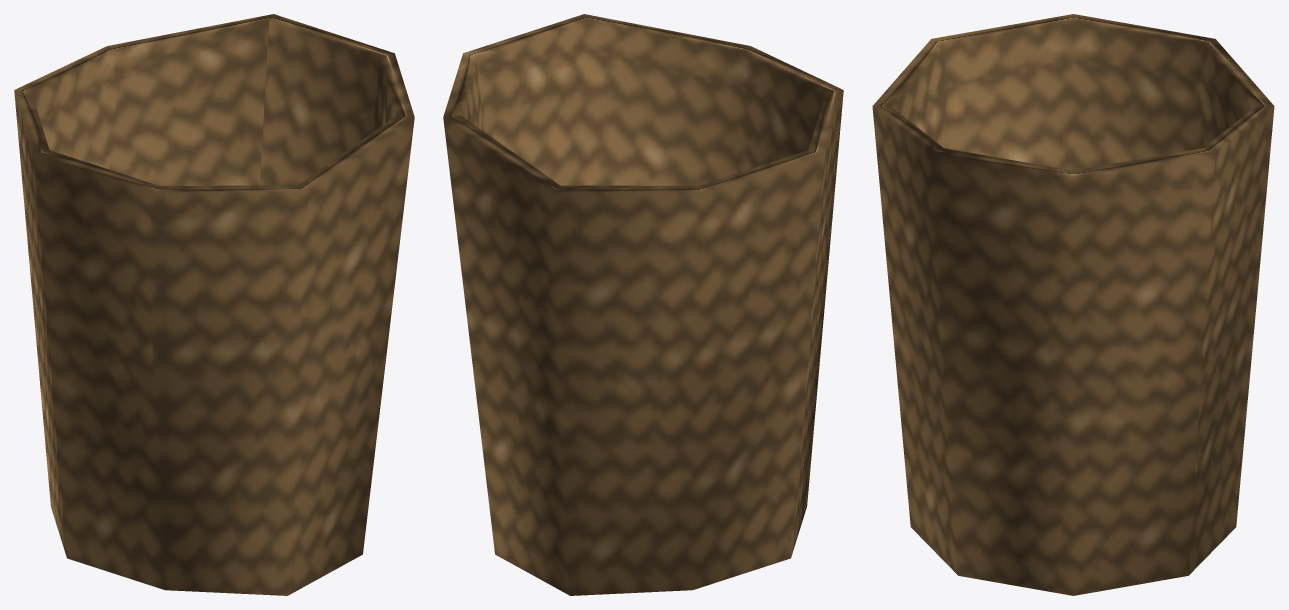
The model's file is bin.fbx.
The picture shows the model from 3 angles, left to right: view 1: azimuth 30°, elevation 25°; view 2: azimuth 150°, elevation 25°; view 3: azimuth 270°, elevation 25°; orthographic projection.
Parts seen in each view (by area): view 1: bin; view 2: bin; view 3: bin.
Part boxes in pixels (x1=…): bin: x1=14, y1=14, x2=414, y2=595; bin: x1=443, y1=14, x2=843, y2=595; bin: x1=872, y1=14, x2=1274, y2=595.
Bounding box in the file's own units: 42.74 × 49.57 × 40.94.
